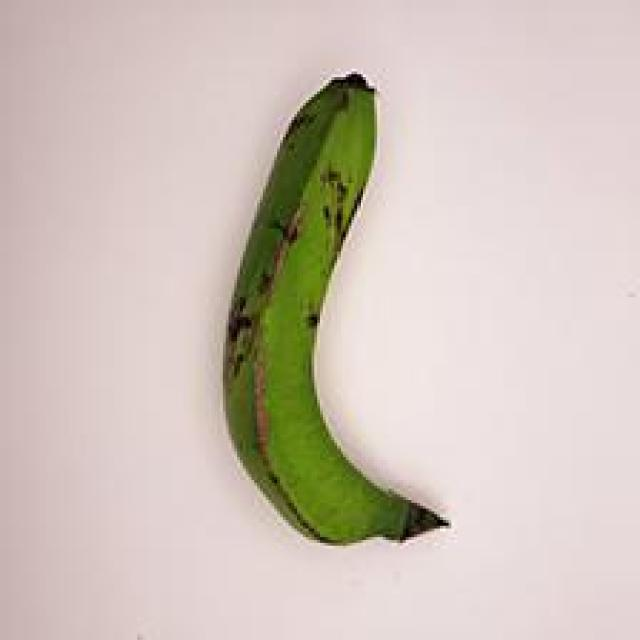Raw: (167, 52, 476, 565)
